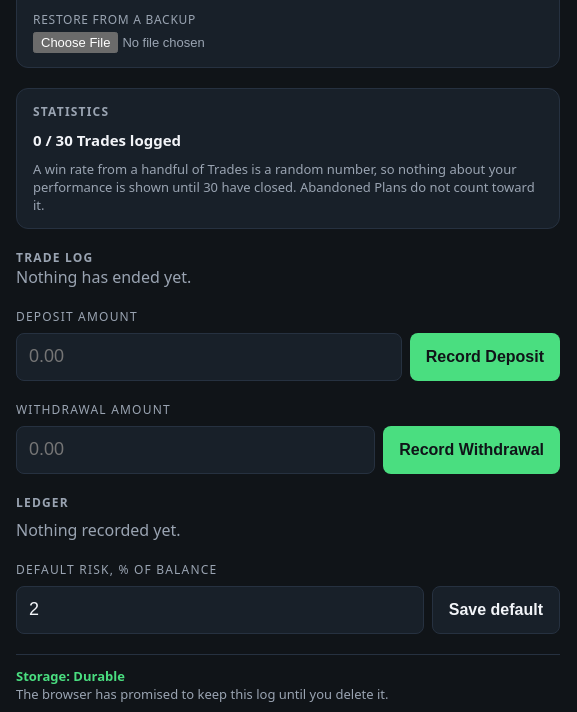
Test: the account screen › refuses a Deposit that is not an amount above zero, and records nothing
(page scrolled)
Type "0" into the number field labelled "Deposit amount" at [209, 357], box [16,333,402,381]
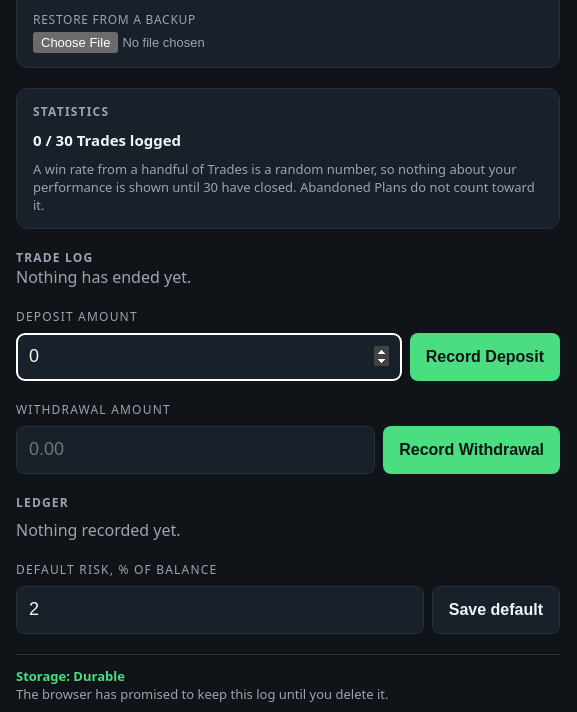
Click the button "Record Deposit" at [485, 357], box [410,333,560,381]
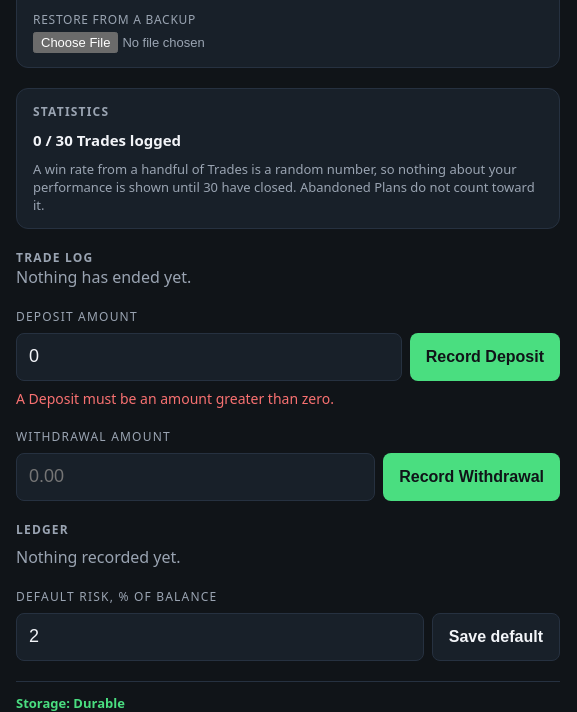
Check: the message shows "greater than zero", box [16,389,334,408]
